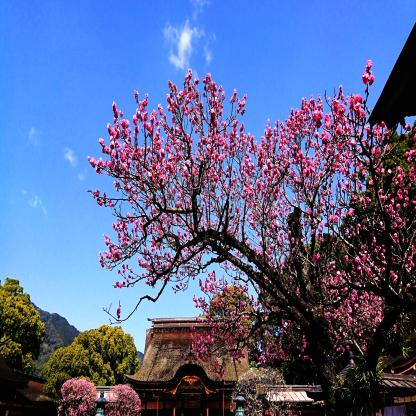Ume: (86, 47, 416, 383), (230, 362, 295, 416), (56, 370, 98, 416), (104, 378, 142, 416)
